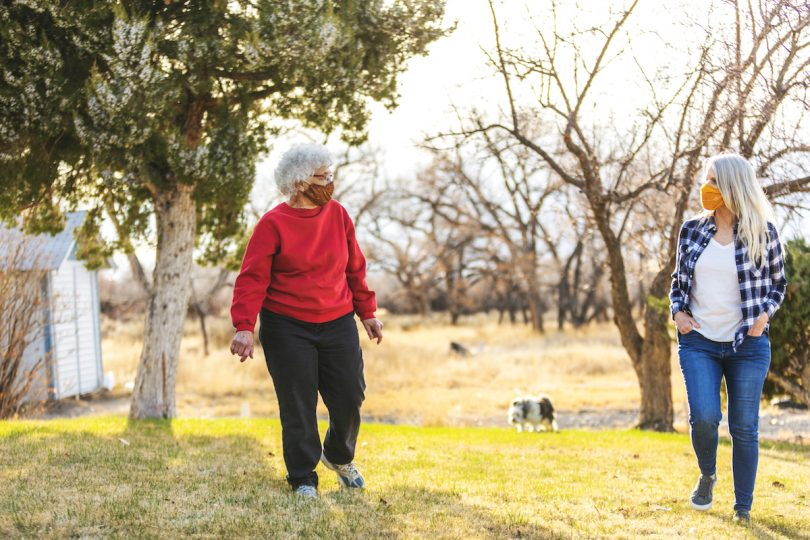with_mask: (306, 166, 335, 201), (703, 171, 725, 209)
